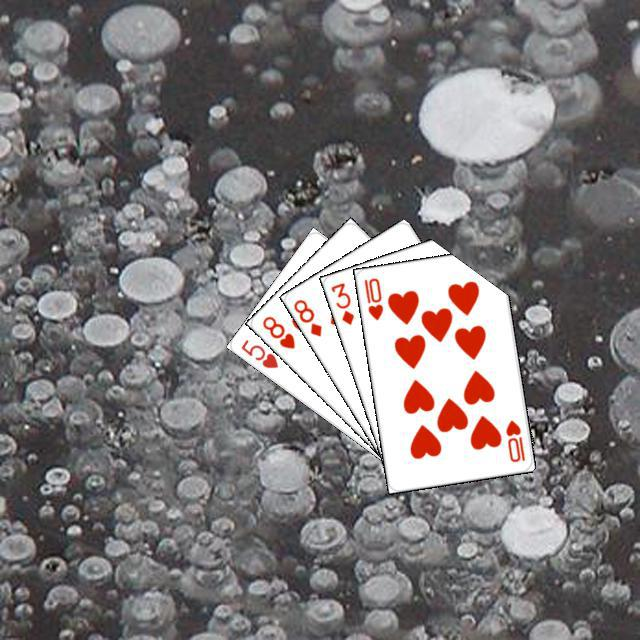10h: (359, 273, 385, 322), (501, 415, 527, 464)
3d: (326, 278, 356, 327)
5h: (236, 334, 280, 370)
8d: (288, 294, 324, 338)
8h: (257, 311, 297, 350)
